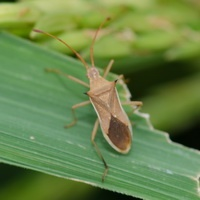insect: (32, 17, 131, 181)
